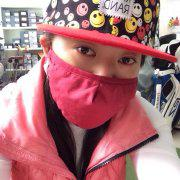WRONG: (48, 34, 142, 128)
